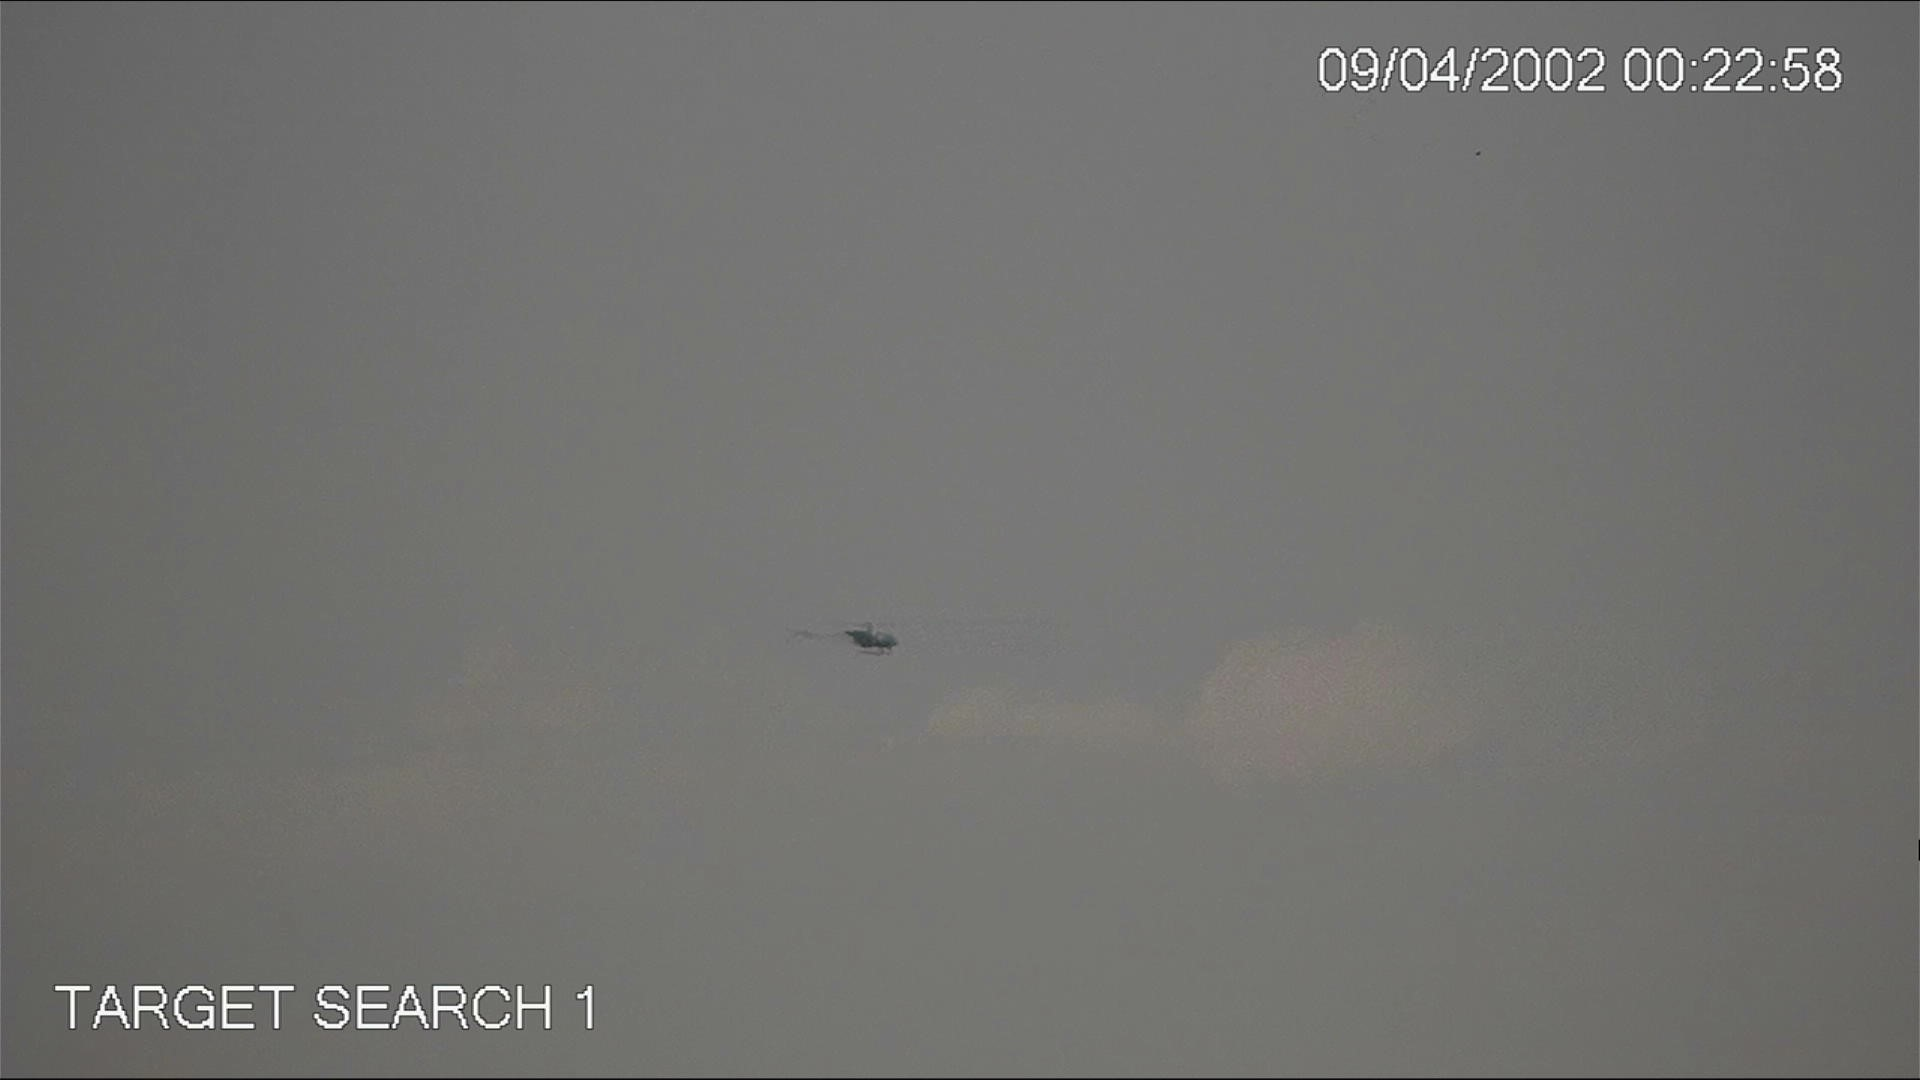SU_30: (796, 615, 899, 665)
